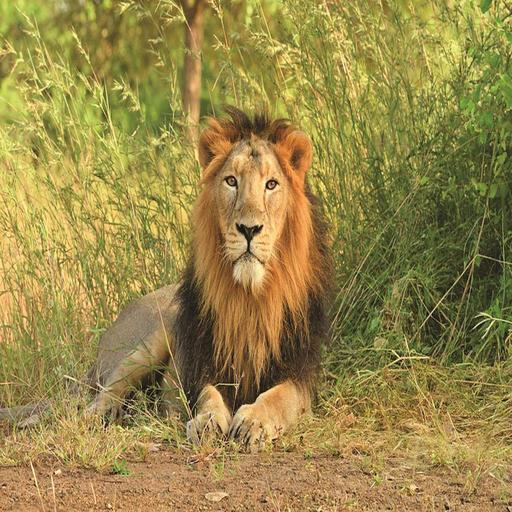Lion: (0, 105, 339, 456)
